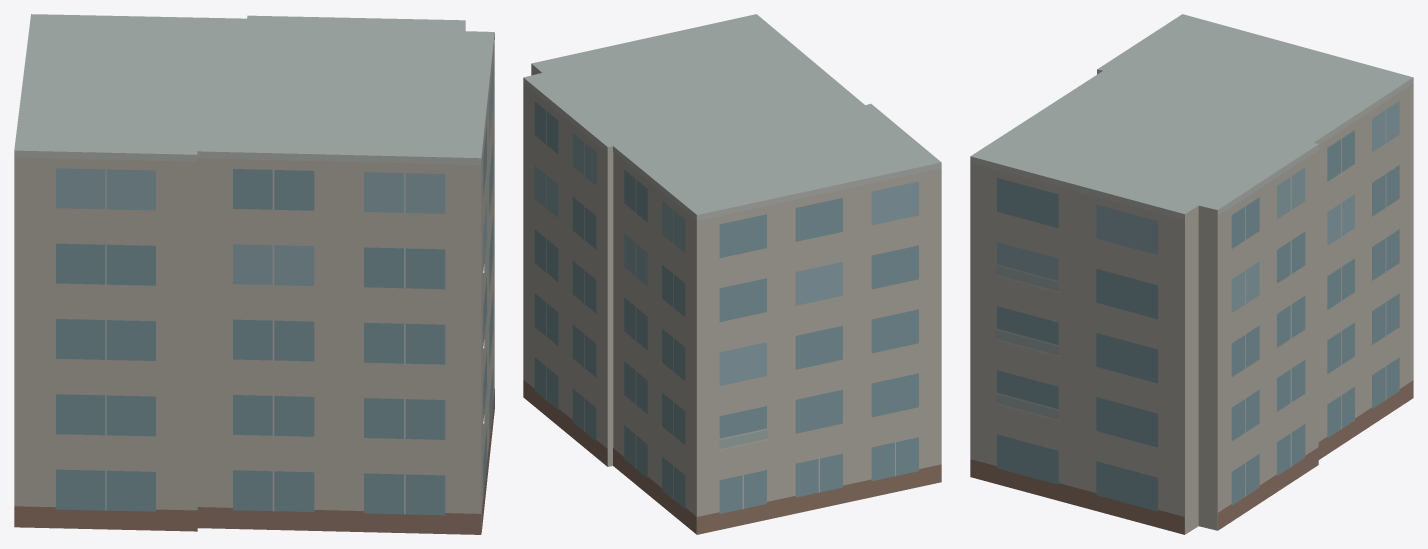
Rendered from survey-upis-32780097.glb.
3 renders of one model, left to right at view 1: azimuth 30°, elevation 25°; view 2: azimuth 150°, elevation 25°; view 3: azimuth 270°, elevation 25°, orthographic. The views are drawn at different scales.
Visible parts, largest first — view 1: survey-upis-32780097.tmp; view 2: survey-upis-32780097.tmp; view 3: survey-upis-32780097.tmp.
Part boxes in pixels (x1,y1,x2,y2): survey-upis-32780097.tmp: (14, 14, 494, 534); survey-upis-32780097.tmp: (523, 14, 941, 534); survey-upis-32780097.tmp: (970, 14, 1413, 534).
Bounding box in the file's own units: 17.82 × 13.3 × 16.67.
